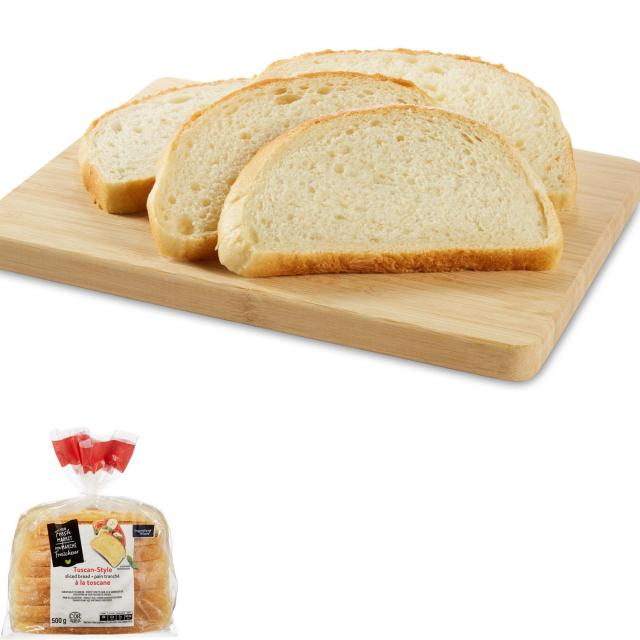Bread: (218, 105, 562, 277), (148, 71, 433, 260), (79, 79, 250, 214)
